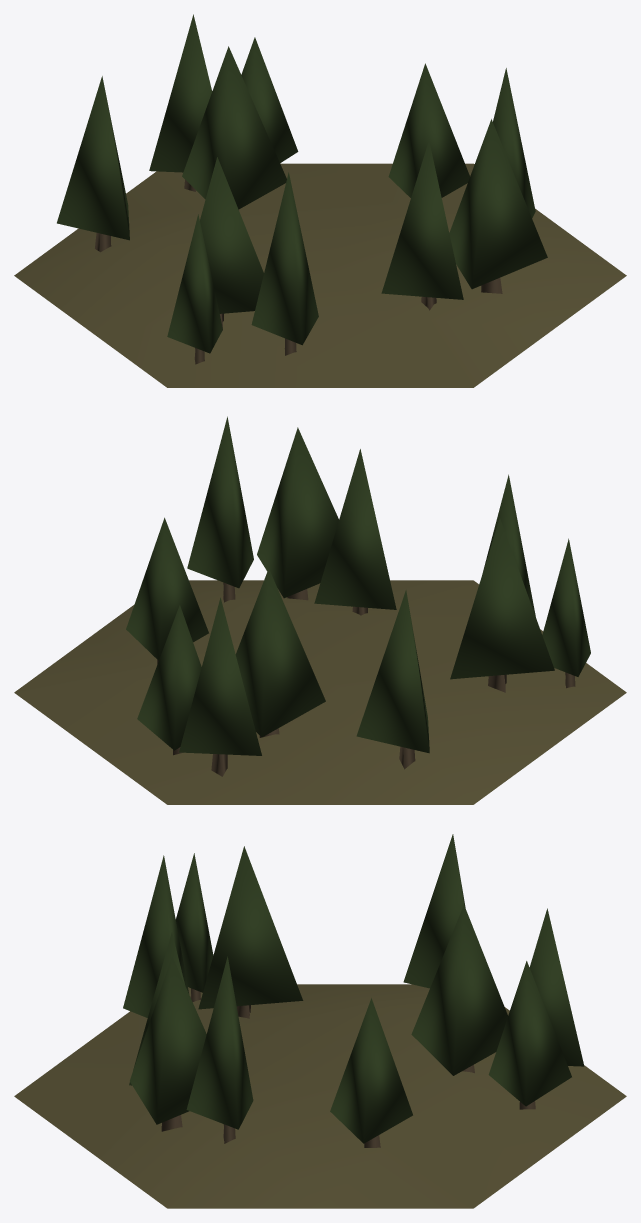
Rendered from taiga_merged.glb.
3 views of the same model, one above another, from view 1: azimuth 30°, elevation 25°; view 2: azimuth 150°, elevation 25°; view 3: azimuth 270°, elevation 25° (orthographic).
Visible parts, largest first — view 1: Taiga Terrain.002, Trees; view 2: Trees, Taiga Terrain.002; view 3: Taiga Terrain.002, Trees.
Boxes of the visible parts, x1,y1,x2,y2 form: Taiga Terrain.002: (14, 163, 626, 387); Trees: (57, 14, 547, 364); Trees: (126, 416, 590, 776); Taiga Terrain.002: (14, 580, 626, 804); Taiga Terrain.002: (14, 984, 626, 1208); Trees: (123, 834, 584, 1147).
Size of the model in its own units: 1.73 by 0.7556 by 2.
